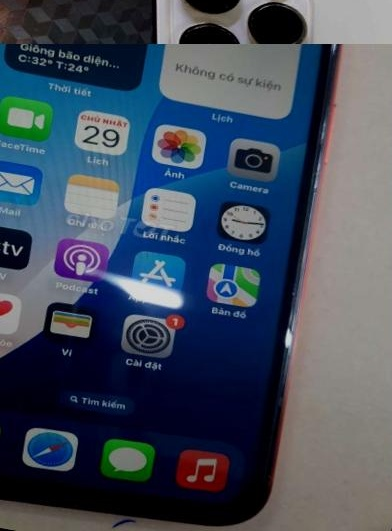scratch: (253, 461, 288, 495)
